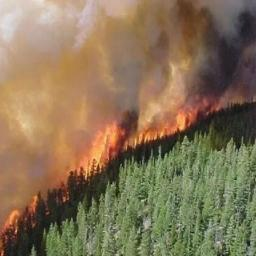Heavy smoke: (7, 16, 256, 116)
Medium fire: (80, 103, 226, 167), (1, 189, 50, 242)
